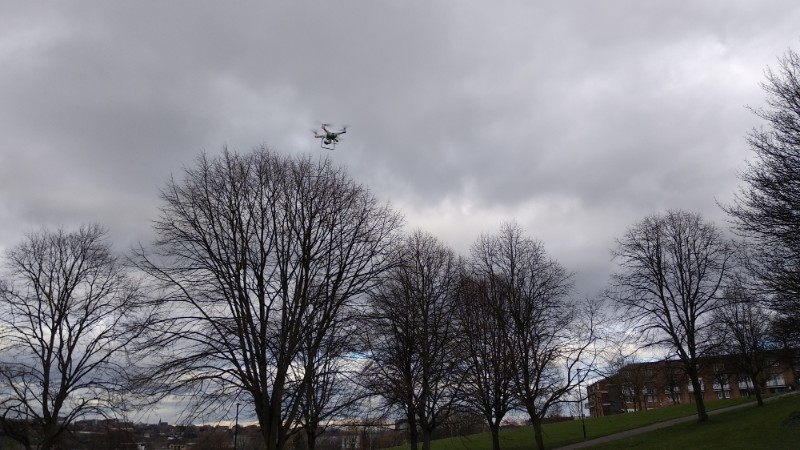drone: (312, 123, 352, 151)
